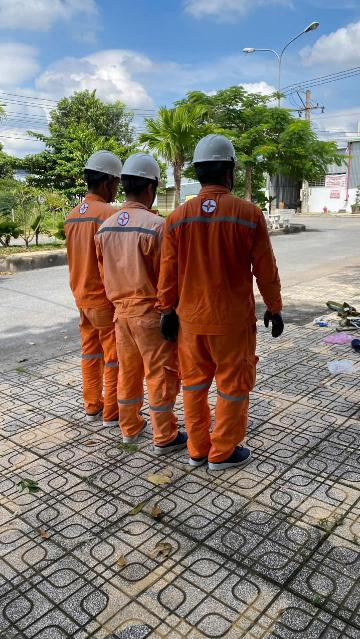gloves: (155, 306, 191, 350), (269, 300, 293, 344)
helmet: (188, 130, 251, 178), (119, 145, 172, 192), (81, 150, 127, 192)
shoes: (210, 445, 262, 474), (146, 429, 194, 455), (120, 413, 148, 447), (81, 401, 118, 426), (185, 440, 210, 474), (103, 413, 131, 433)
